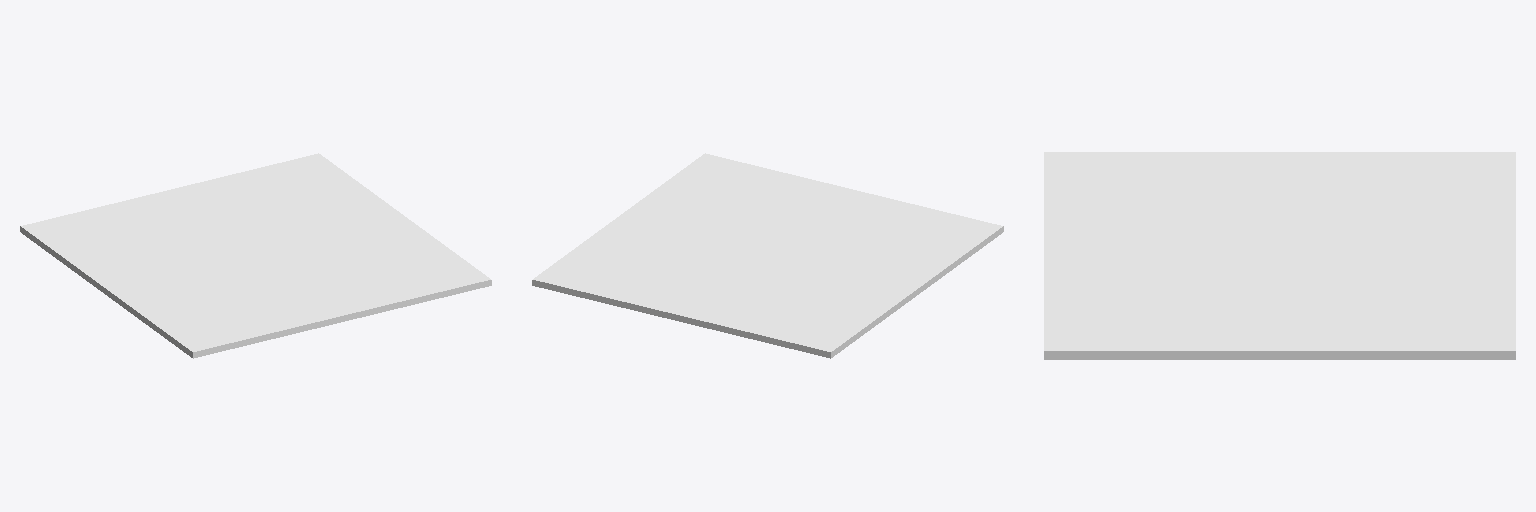
robot.urdf — plane:
<?xml version="0.0" ?>
<robot name="plane">
  <link name="planeLink">
  <contact>
      <lateral_friction value="1"/>
  </contact>
    <inertial>
      <origin rpy="0 0 0" xyz="0 0 0"/>
       <mass value=".0"/>
       <inertia ixx="0" ixy="0" ixz="0" iyy="0" iyz="0" izz="0"/>
    </inertial>
    <visual>
      <origin rpy="0 0 0" xyz="0 0 -5"/>
      <geometry>
        <box size="500 500 10"/>
      </geometry>
       <material name="white">
        <color rgba="1 1 1 1"/>
      </material>
    </visual>
    <collision>
      <origin rpy="0 0 0" xyz="0 0 -5"/>
      <geometry>
        <box size="500 500 10"/>
      </geometry>
    </collision>
  </link>
</robot>

--- Render facts (derived) ---
Views: 3 orthographic renders of the robot side by side, from view 1: azimuth 30°, elevation 25°; view 2: azimuth 150°, elevation 25°; view 3: azimuth 270°, elevation 25°.
Model plane with 1 links and 0 joints (none), rooted at planeLink, posed every joint at zero.
Visible links, largest first — view 1: planeLink; view 2: planeLink; view 3: planeLink.
Link boxes in pixels (<box>): planeLink: <box>20,153,491,358</box>; planeLink: <box>532,153,1003,358</box>; planeLink: <box>1044,152,1515,359</box>.
Size in the robot's own frame: 500 by 500 by 10 metres.
Geometry: primitives only (box / cylinder / sphere), no mesh files.
